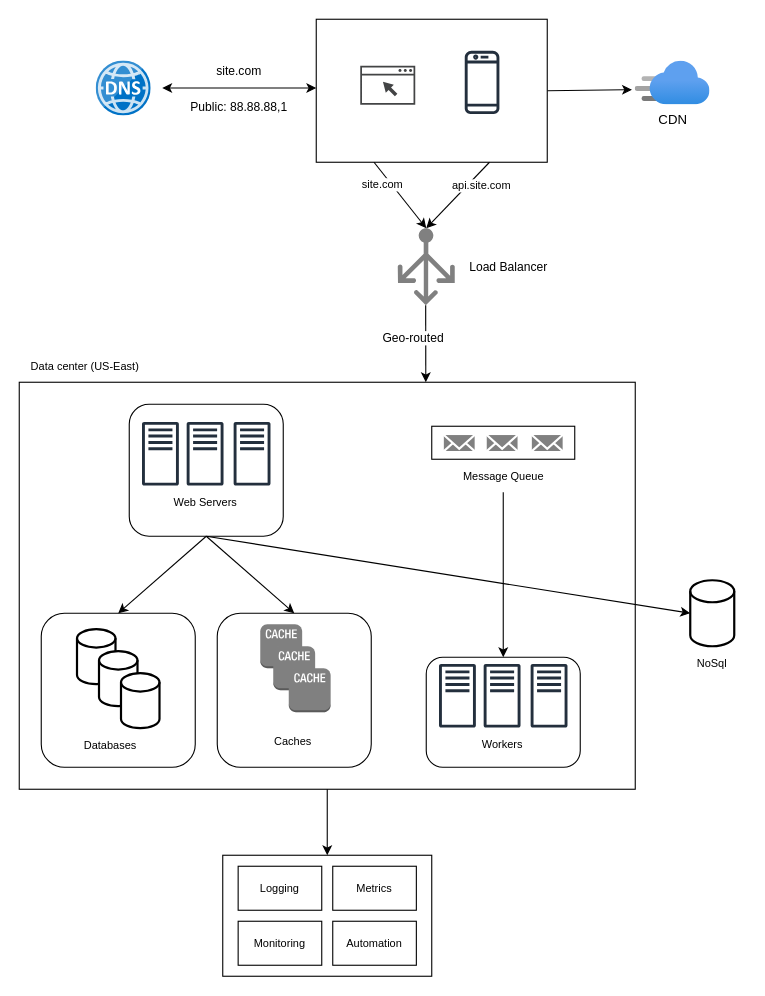
The diagram is 765 pixels wide and 996 high, and some of its shapes have lost their labels. Each missing label, with the centre of its shape:
"Browser" goes at (387,84).
"Mobile" goes at (481,82).
